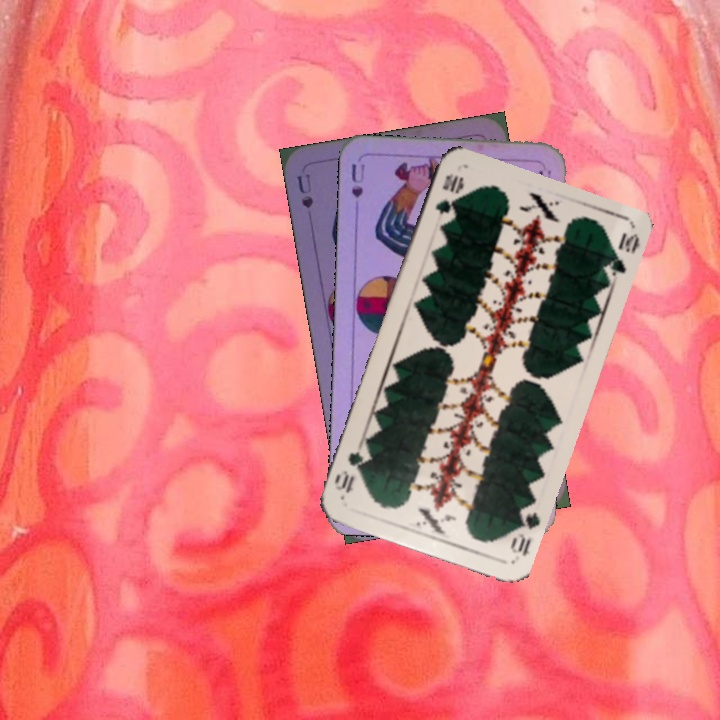G10: (506, 502, 542, 559), (431, 169, 466, 217)
SU: (347, 159, 368, 219), (293, 169, 316, 210)
